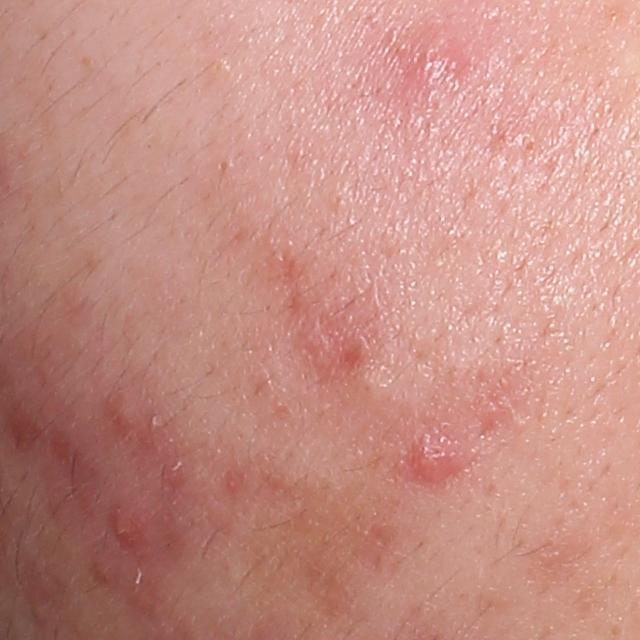papule: (412, 444, 459, 481), (105, 507, 143, 546)
